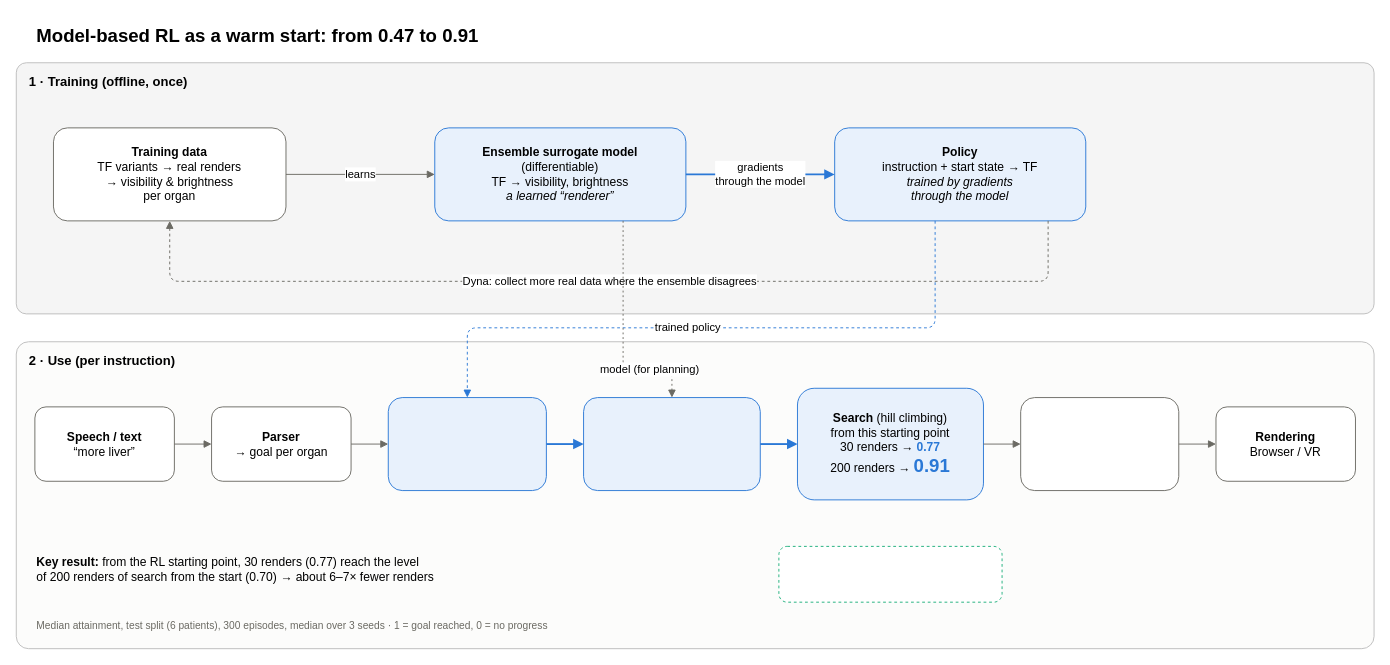
The diagram is 1390 pixels wide and 665 high, and some of its shapes have lost their labels. Here are the shapes that lost their labels. From the top down, the centre of each, then its label:
(466,444): Policy (one-shot) 0 renders 0.47
(671,444): Planning through the model 0 renders, ~0.2 s 0.64
(1099,444): Keep Repair + Colour Guard no side effects on other organs
(890,573): Baseline: search from the start (no RL), 200 renders → 0.70
